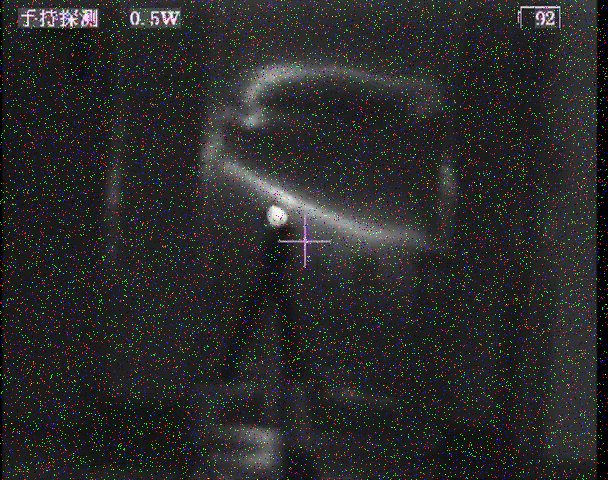my: (264, 202, 288, 227)
